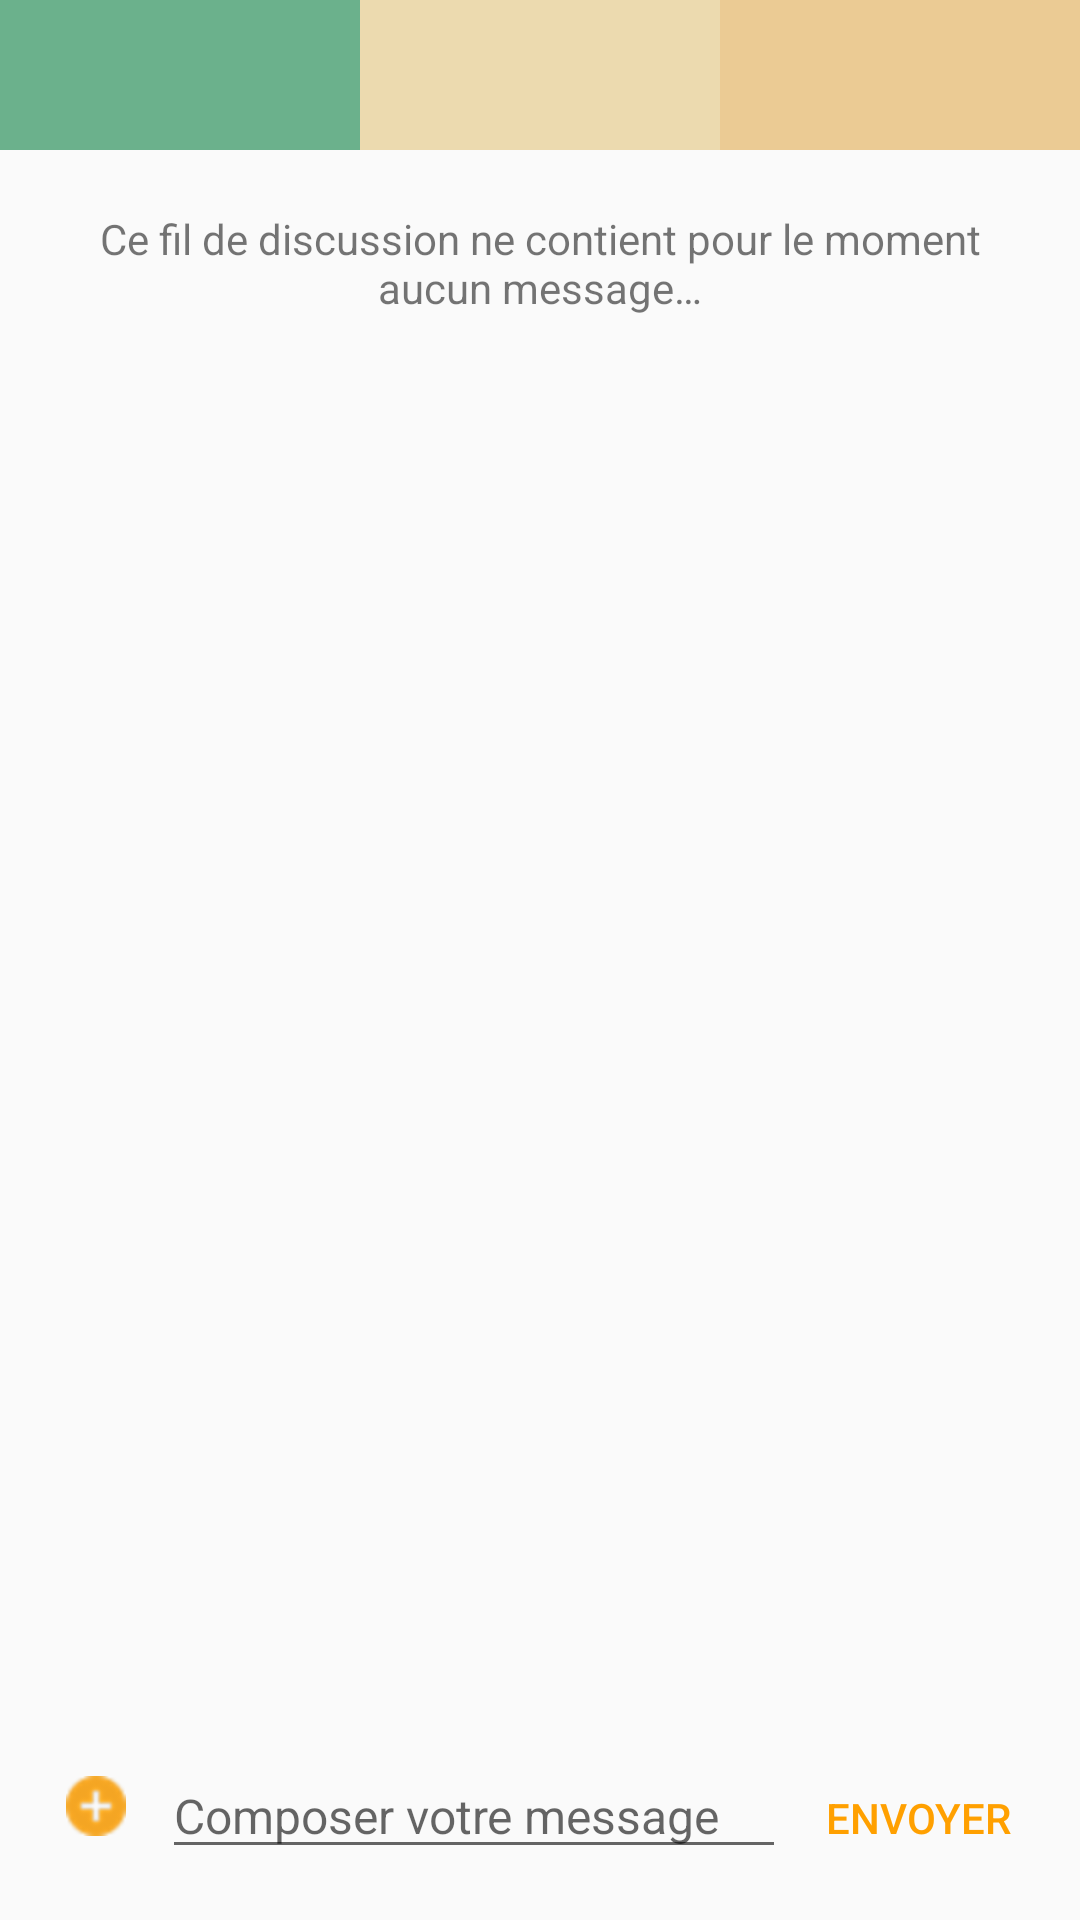

Icons on this 1080w x 1920h Android screen, each with the point to tap as (x,y):
add circle: (96,1806)
